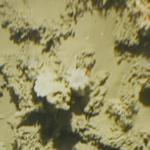alive: (4, 3, 147, 147)
